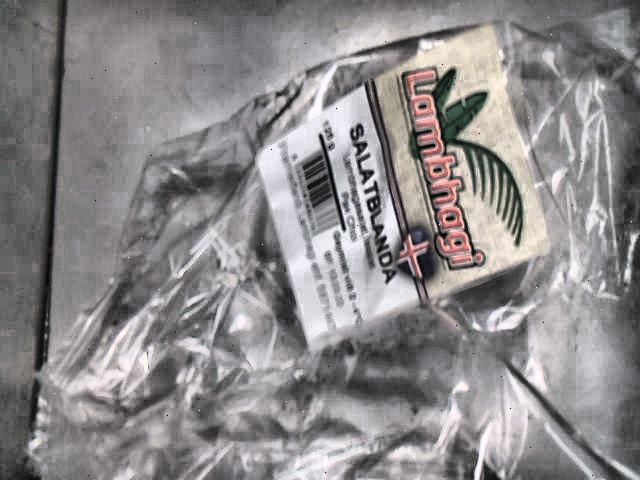Plastic: (25, 5, 640, 480)
